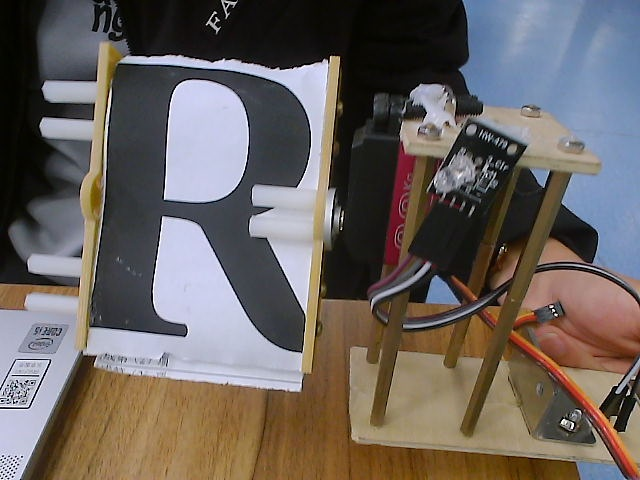R: (20, 42, 380, 435)
